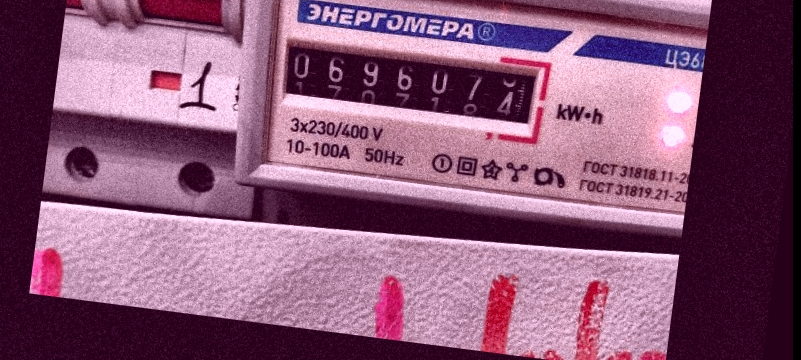0: (428, 64, 450, 96), (290, 50, 311, 80)
4: (494, 88, 514, 118)
6: (324, 53, 347, 83), (393, 62, 415, 93)
7: (463, 71, 484, 103)
9: (359, 58, 379, 88)
screen: (263, 20, 557, 144)
